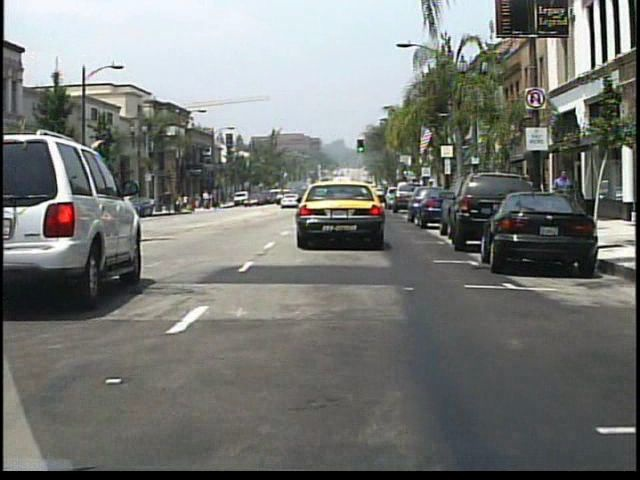person: (551, 168, 575, 227), (212, 193, 220, 210)
